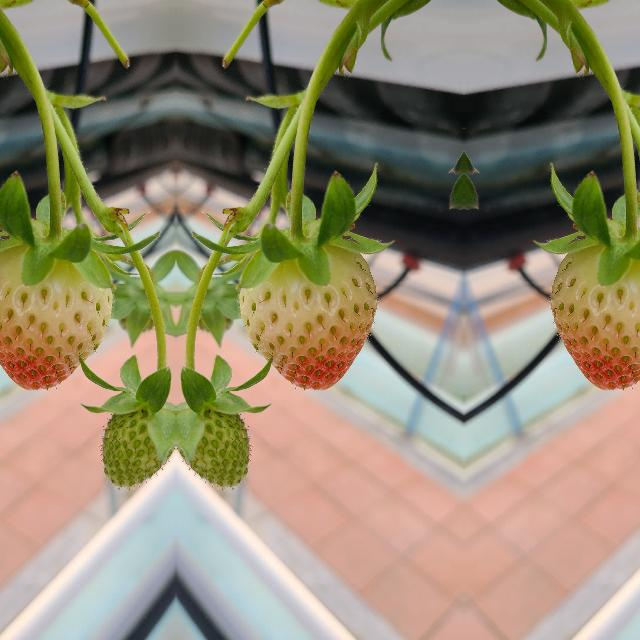Health_25: (186, 400, 252, 484), (98, 400, 164, 484)
Health_50: (238, 246, 376, 390), (0, 246, 112, 389), (550, 246, 640, 389)
